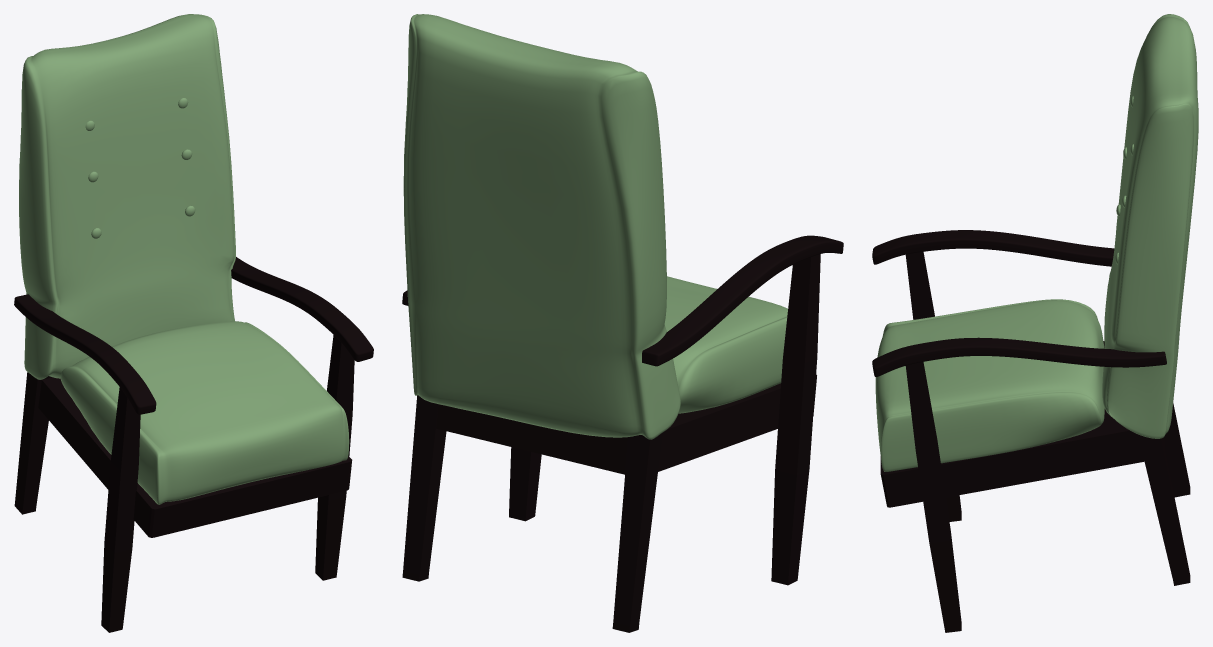
Rendered from chair.dae.
The picture shows the model from 3 angles, left to right: view 1: azimuth 30°, elevation 25°; view 2: azimuth 150°, elevation 25°; view 3: azimuth 270°, elevation 25°; orthographic projection. The views are drawn at different scales.
Visible parts, largest first — view 1: chair; view 2: chair; view 3: chair.
Part boxes in pixels (x1,y1,x2,y2): chair: [14, 14, 373, 632]; chair: [402, 14, 843, 632]; chair: [872, 14, 1198, 632].
Bounding box in the file's own units: 0.7529 × 1.49 × 0.8506.
